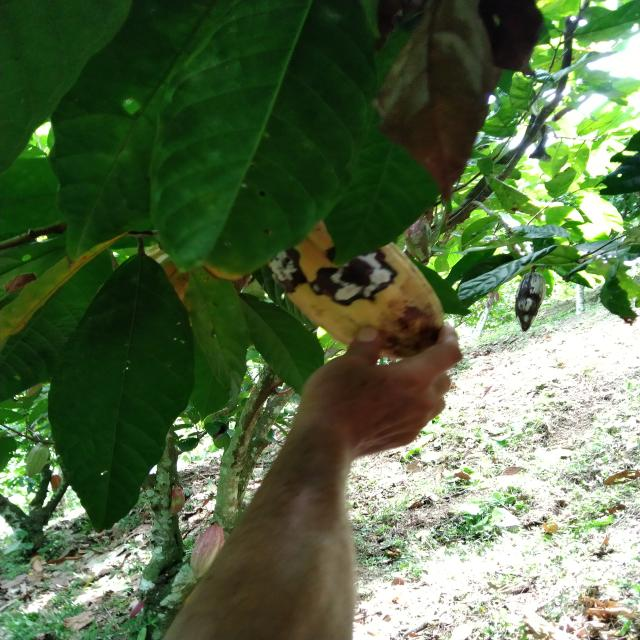Monilia: (269, 221, 446, 355), (509, 272, 553, 331)
